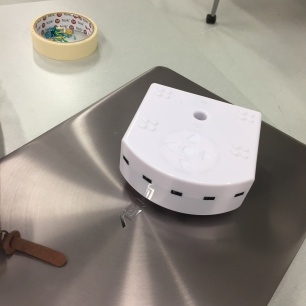thymio: (119, 75, 263, 219)
